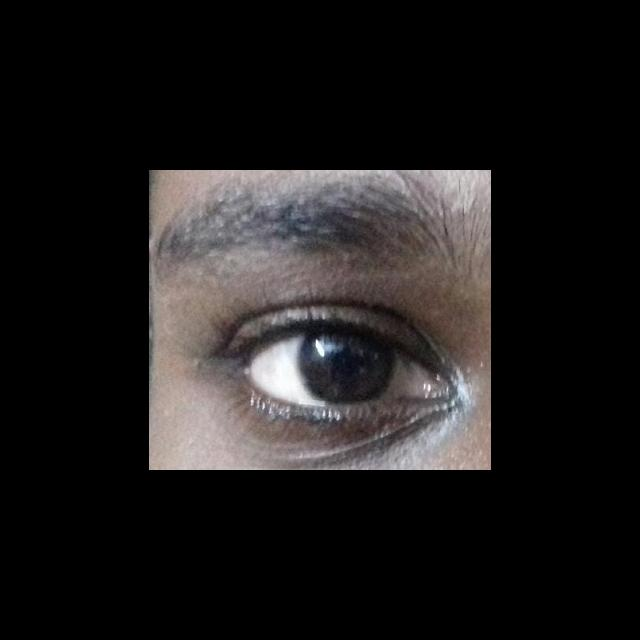eye: (246, 331, 428, 411)
iris: (299, 334, 396, 403)
